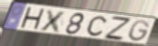8: (64, 12, 85, 36)
C: (86, 15, 108, 37)
G: (127, 19, 151, 43)
H: (18, 7, 46, 32)
X: (38, 9, 69, 34)
Z: (103, 15, 132, 42)
